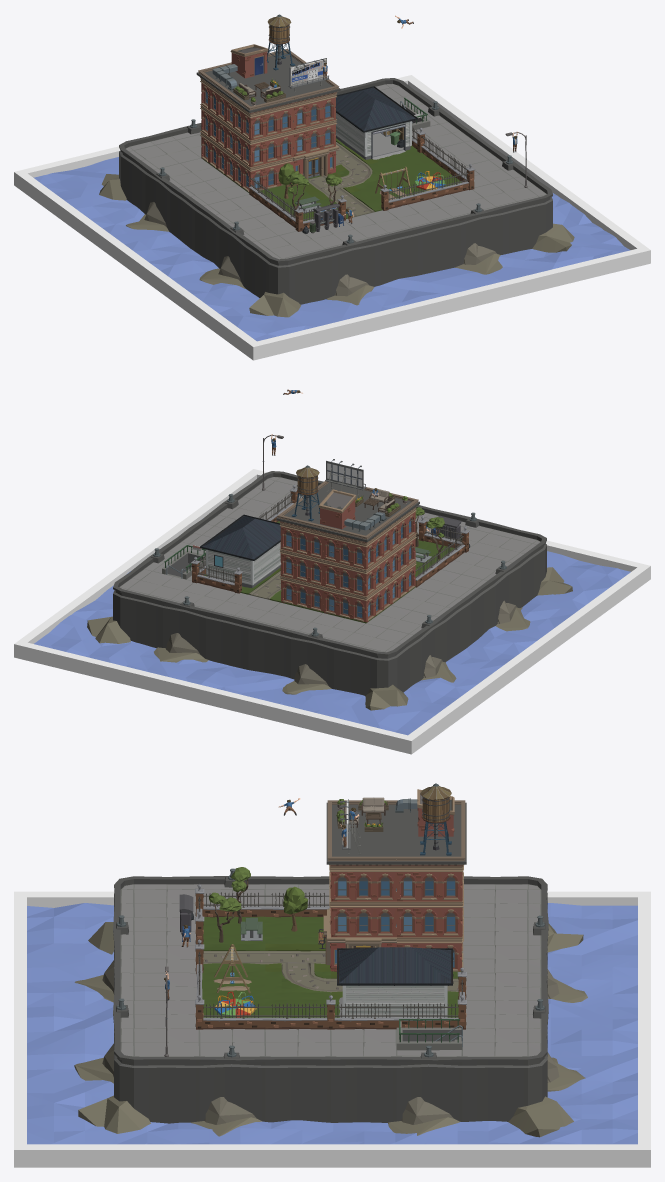
The model's file is Portfolio-Place.glb.
The picture shows the model from 3 angles, top to bottom: view 1: azimuth 30°, elevation 25°; view 2: azimuth 150°, elevation 25°; view 3: azimuth 270°, elevation 25°; orthographic projection. The views are drawn at different scales.
Visible parts, largest first — view 1: Park, WaterBase, Apartment, Shed, Fence, Park-Assets, Roof-Assets, Apartment-LivingRoom-Hide, Apartment_Bedroom-Hide; view 2: Park, WaterBase, Apartment, Shed, Fence, Roof-Assets, Park-Assets; view 3: Park, WaterBase, Apartment, Fence, Shed, Park-Assets, Apartment-LivingRoom-Hide, Apartment_Bedroom-Hide, Roof-Assets.
Boxes of the visible parts, left/top/right/bottom form: Park: left=99, top=78, right=574, bottom=317; WaterBase: left=14, top=75, right=650, bottom=360; Apartment: left=196, top=14, right=340, bottom=191; Shed: left=335, top=86, right=417, bottom=159; Fence: left=249, top=127, right=475, bottom=231; Park-Assets: left=278, top=163, right=445, bottom=233; Roof-Assets: left=233, top=58, right=329, bottom=105; Apartment-LivingRoom-Hide: left=293, top=119, right=337, bottom=156; Apartment_Bedroom-Hide: left=293, top=93, right=337, bottom=129; Park: left=87, top=471, right=572, bottom=710; WaterBase: left=14, top=469, right=650, bottom=754; Apartment: left=276, top=465, right=419, bottom=622; Shed: left=200, top=514, right=281, bottom=587; Fence: left=191, top=484, right=469, bottom=593; Roof-Assets: left=325, top=459, right=407, bottom=516; Park-Assets: left=415, top=507, right=470, bottom=562; Park: left=74, top=868, right=587, bottom=1137; WaterBase: left=14, top=891, right=650, bottom=1167; Apartment: left=323, top=783, right=466, bottom=971; Fence: left=195, top=884, right=466, bottom=1029; Shed: left=337, top=947, right=453, bottom=1017; Park-Assets: left=179, top=867, right=325, bottom=1017; Apartment-LivingRoom-Hide: left=329, top=880, right=397, bottom=937; Apartment_Bedroom-Hide: left=329, top=865, right=397, bottom=901; Roof-Assets: left=336, top=797, right=388, bottom=854.
Bounding box in the file's own units: 46.5 × 22.95 × 48.5.
Materials: 11 (6 with a texture image).
